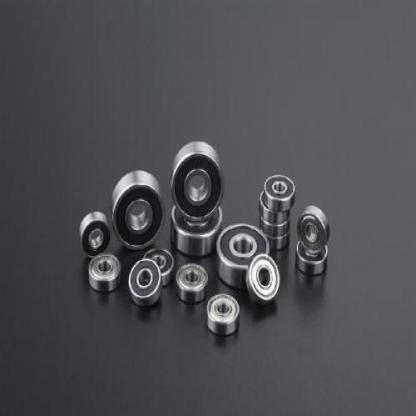FOD: (111, 169, 164, 253), (170, 142, 224, 224), (214, 222, 272, 286), (168, 203, 224, 255), (247, 251, 282, 306), (78, 208, 111, 262), (126, 256, 160, 307), (296, 205, 331, 253), (203, 293, 240, 337), (174, 262, 209, 304), (86, 254, 122, 294), (262, 172, 297, 213), (141, 247, 176, 285), (293, 240, 329, 273), (257, 191, 292, 224)
